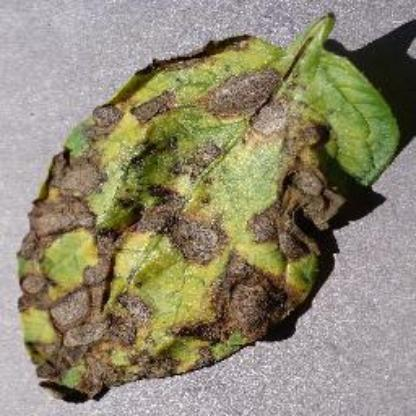Early-Blight: (15, 4, 405, 410)
